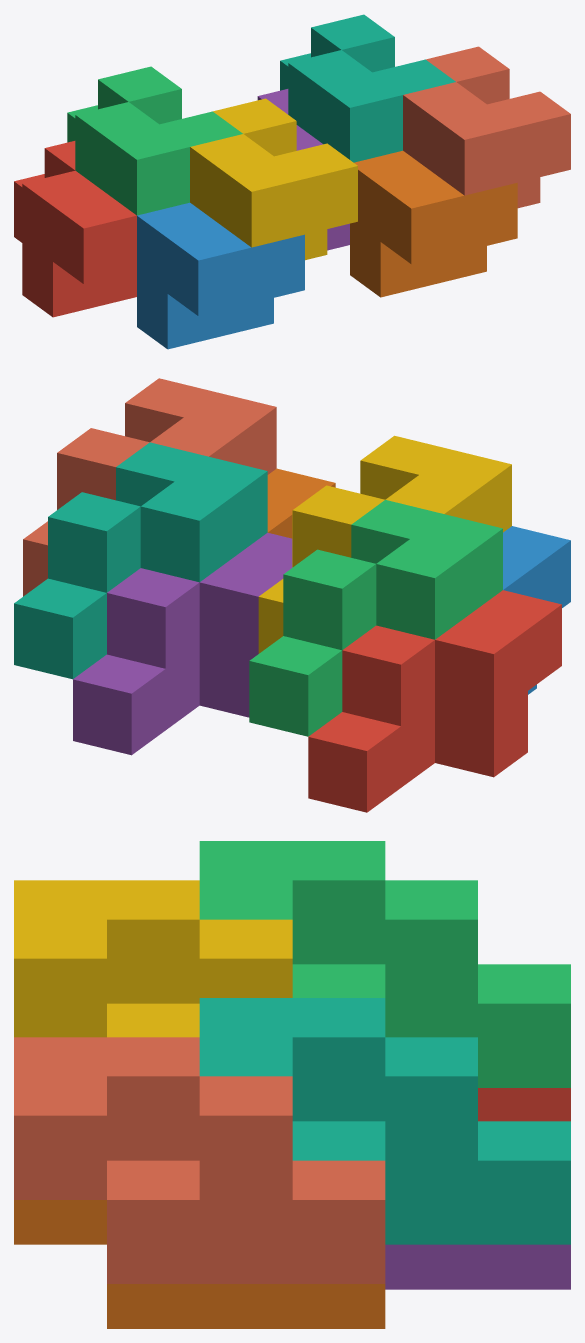
The model's file is tiling.obj.
The picture shows the model from 3 angles, top to bottom: view 1: azimuth 30°, elevation 25°; view 2: azimuth 150°, elevation 25°; view 3: azimuth 270°, elevation 25°; orthographic projection. The views are drawn at different scales.
Visible parts, largest first — view 1: copy_1_domain_8, copy_1_domain_4, copy_1_domain_2, copy_1_domain_6, copy_1_domain_1, copy_1_domain_3, copy_1_domain_7, copy_1_domain_5; view 2: copy_1_domain_1, copy_1_domain_3, copy_1_domain_7, copy_1_domain_5, copy_1_domain_4, copy_1_domain_8, copy_1_domain_2, copy_1_domain_6; view 3: copy_1_domain_8, copy_1_domain_7, copy_1_domain_3, copy_1_domain_4, copy_1_domain_6, copy_1_domain_5, copy_1_domain_1.
Part boxes in pixels (box(x1,y1,x2,y2)): copy_1_domain_8: box(403, 46, 570, 208); copy_1_domain_4: box(190, 98, 357, 260); copy_1_domain_2: box(137, 202, 304, 349); copy_1_domain_6: box(350, 150, 517, 297); copy_1_domain_1: box(14, 141, 136, 317); copy_1_domain_3: box(67, 66, 242, 215); copy_1_domain_7: box(280, 14, 455, 162); copy_1_domain_5: box(257, 89, 349, 250); copy_1_domain_1: box(308, 590, 561, 812); copy_1_domain_3: box(249, 500, 502, 736); copy_1_domain_7: box(14, 442, 267, 679); copy_1_domain_5: box(73, 532, 292, 755); copy_1_domain_4: box(258, 435, 511, 653); copy_1_domain_8: box(23, 378, 276, 596); copy_1_domain_2: box(503, 526, 570, 694); copy_1_domain_6: box(267, 468, 335, 538); copy_1_domain_8: box(14, 1037, 385, 1283); copy_1_domain_7: box(199, 998, 570, 1244); copy_1_domain_3: box(199, 841, 570, 1087); copy_1_domain_4: box(14, 880, 292, 1037); copy_1_domain_6: box(14, 1200, 385, 1328); copy_1_domain_5: box(385, 1244, 570, 1289); copy_1_domain_1: box(478, 1088, 570, 1121).
Size of the model in its own units: 8 by 3 by 6.
